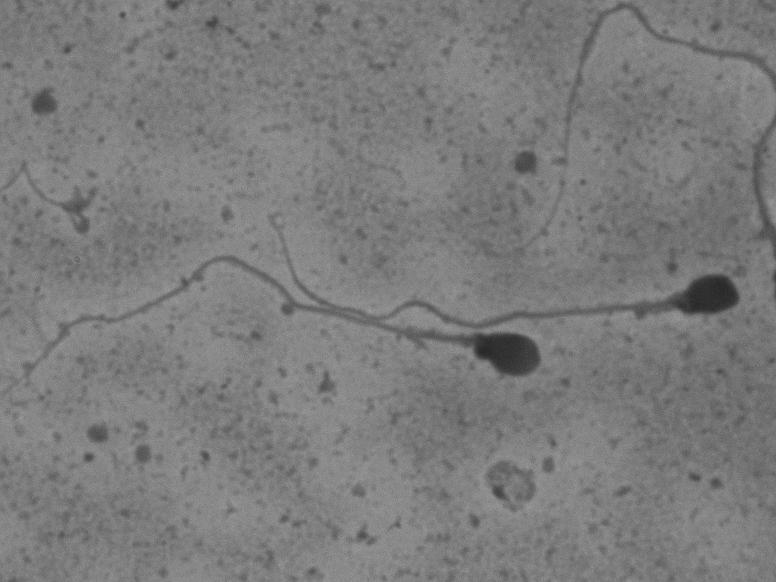Abnormal: (37, 260, 553, 417), (258, 195, 748, 334)
